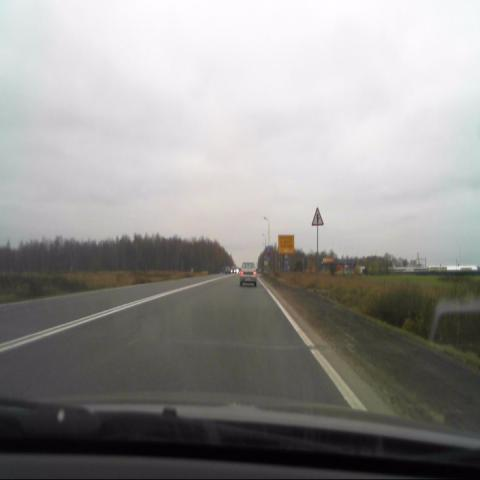2_3_2: (311, 207, 324, 226)
